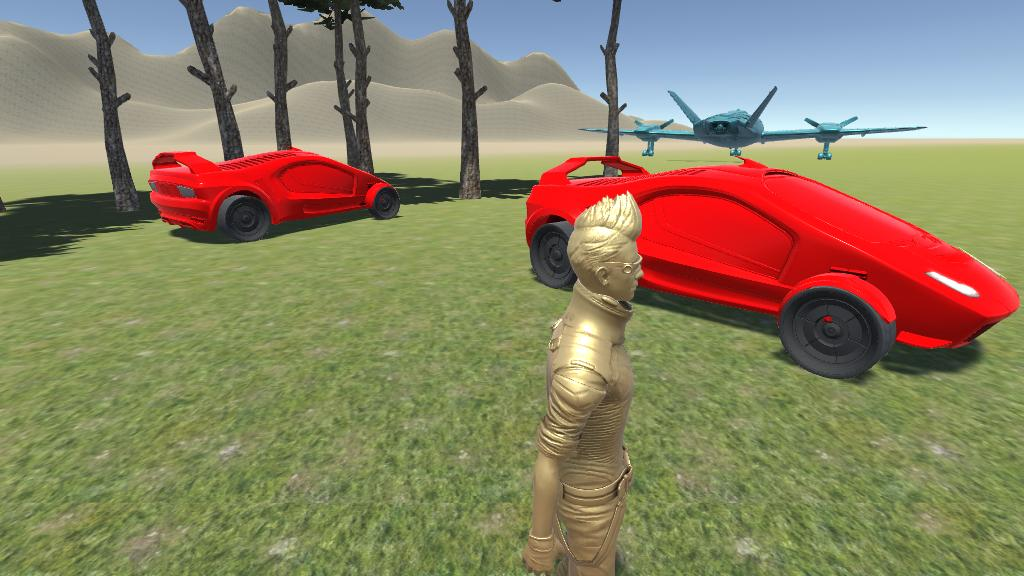car: (525, 157, 1019, 379), (148, 147, 399, 242)
ethan: (521, 191, 643, 576)
